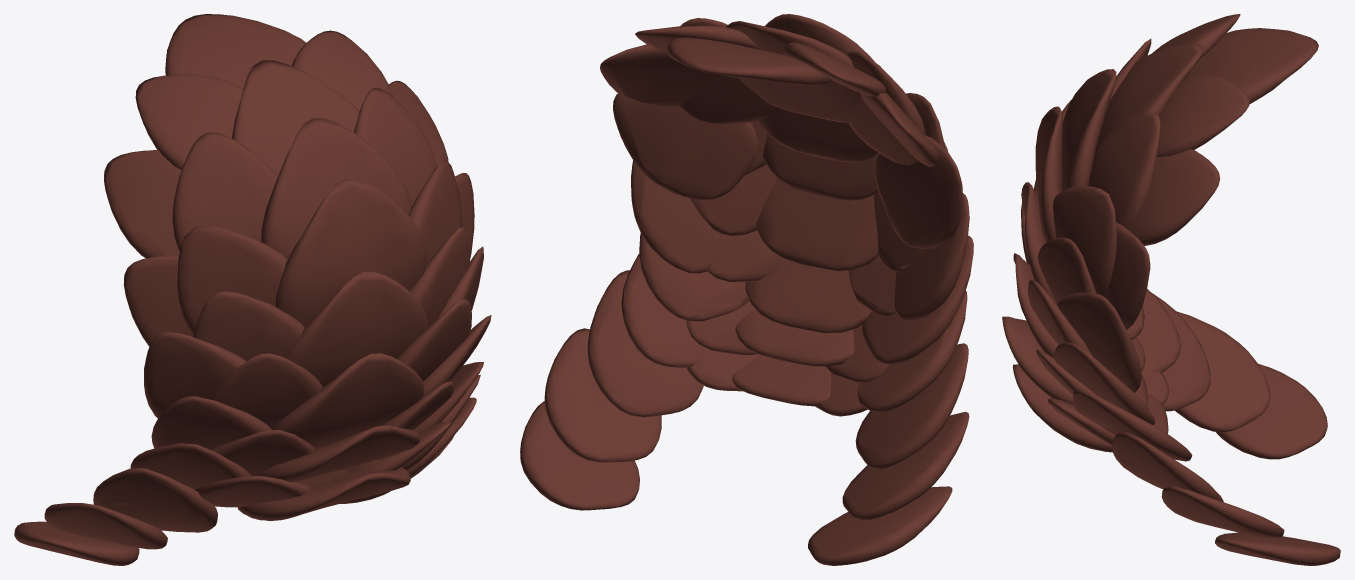
Rendered from sculpture_18.glb.
3 views of the same model, side by side, from view 1: azimuth 30°, elevation 25°; view 2: azimuth 150°, elevation 25°; view 3: azimuth 270°, elevation 25° (orthographic). The views are drawn at different scales.
Parts seen in each view (by area): view 1: SCL_01_10; view 2: SCL_01_10; view 3: SCL_01_10.
Part boxes in pixels (x1,y1,x2,y2): SCL_01_10: (14, 14, 491, 565); SCL_01_10: (520, 14, 973, 565); SCL_01_10: (1002, 14, 1340, 565).
Size of the model in its own units: 0.2988 by 0.3337 by 0.2238.
